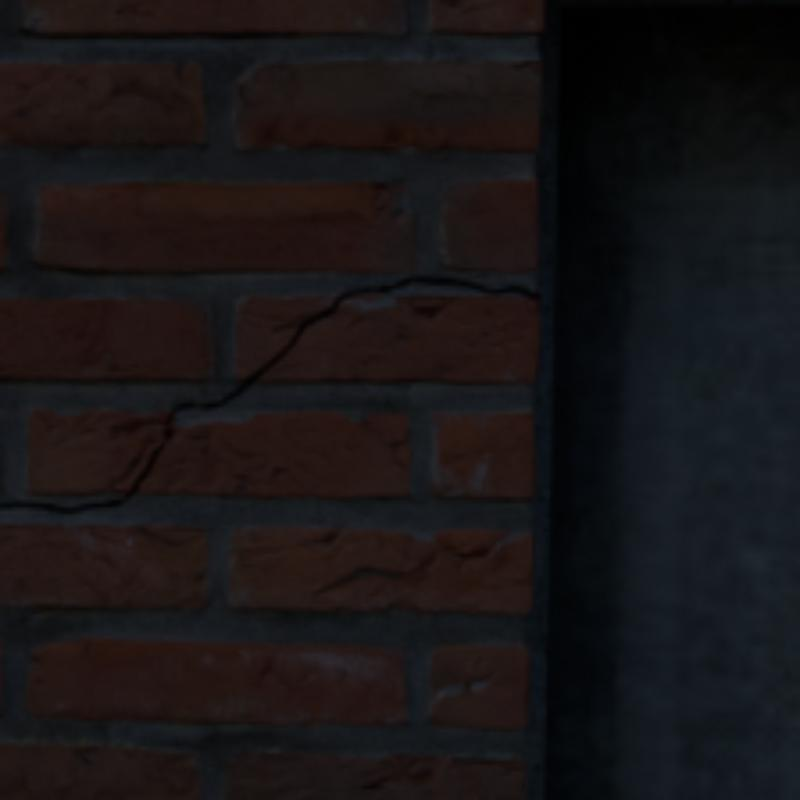crack: (222, 329, 300, 400), (121, 414, 168, 500), (446, 279, 529, 293), (304, 293, 343, 321), (418, 546, 461, 568), (343, 286, 393, 293), (193, 400, 222, 404), (339, 575, 354, 582), (325, 582, 339, 589), (364, 571, 379, 575), (396, 571, 407, 575), (354, 571, 364, 575), (407, 568, 418, 571), (479, 550, 486, 554)
